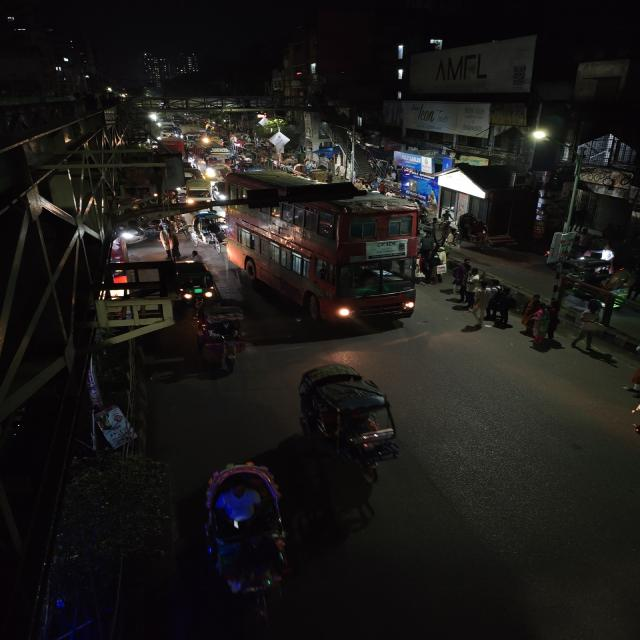bus: (225, 169, 429, 325), (193, 144, 232, 172)
cng: (288, 360, 416, 480), (173, 260, 220, 304)
human_hauler: (181, 179, 216, 206)
motorcycle: (192, 459, 312, 623)
pedestrian: (614, 359, 640, 418), (572, 310, 606, 354), (489, 287, 519, 328), (535, 302, 567, 340), (520, 293, 544, 335), (621, 352, 640, 402), (449, 259, 472, 297), (462, 272, 486, 308), (426, 250, 448, 284)
rickshaw: (287, 360, 415, 480), (189, 298, 254, 362), (185, 214, 228, 254)
